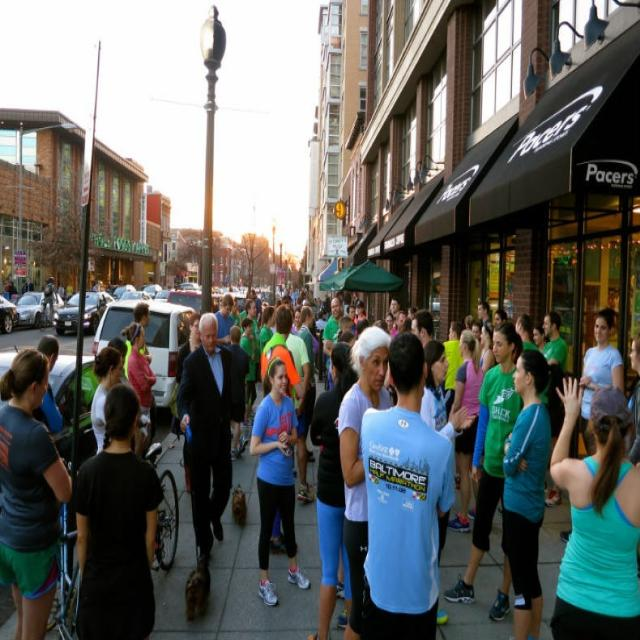body: (357, 329, 456, 640), (441, 319, 525, 624), (546, 372, 639, 639), (72, 379, 159, 639), (0, 347, 71, 639), (334, 322, 396, 639), (174, 310, 241, 576), (418, 339, 476, 626), (305, 342, 360, 640), (247, 355, 311, 606), (499, 346, 554, 638), (259, 302, 307, 552), (446, 328, 488, 535), (576, 306, 624, 456), (284, 302, 316, 504), (120, 320, 158, 462), (176, 313, 204, 493), (89, 345, 124, 456), (32, 332, 65, 442), (296, 305, 318, 464), (227, 323, 251, 461), (441, 320, 467, 425), (123, 301, 153, 382), (322, 296, 345, 392), (238, 316, 257, 431), (538, 310, 570, 378), (626, 332, 640, 466), (238, 298, 259, 385), (241, 284, 320, 306), (213, 292, 237, 350), (608, 284, 634, 336), (71, 366, 95, 422), (408, 310, 436, 349), (515, 313, 541, 354), (38, 274, 59, 324), (107, 338, 129, 385), (478, 322, 496, 378), (258, 305, 276, 358), (351, 298, 368, 348), (409, 308, 425, 349), (476, 298, 494, 326), (532, 322, 548, 352), (392, 310, 408, 338), (289, 308, 303, 336), (228, 298, 242, 326), (345, 305, 357, 336), (384, 312, 399, 336), (320, 291, 332, 321), (65, 280, 74, 316), (493, 308, 508, 329), (89, 278, 111, 292), (388, 298, 402, 318), (57, 282, 65, 316), (471, 321, 483, 343), (7, 280, 19, 302), (464, 314, 477, 332), (211, 294, 220, 313), (357, 316, 370, 329), (374, 318, 388, 330), (25, 275, 35, 291), (338, 330, 354, 340), (2, 277, 9, 294)
